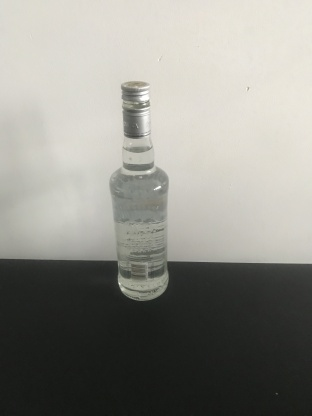nakretka: (120, 79, 152, 139)
